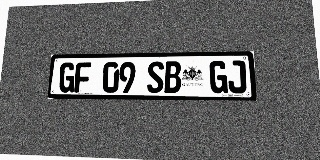0: (102, 62, 119, 93)
9: (119, 62, 136, 93)
B: (164, 61, 181, 93)
F: (74, 62, 91, 93)
G: (209, 61, 228, 93), (58, 62, 76, 93)
J: (227, 60, 247, 93)
S: (147, 61, 164, 93)
